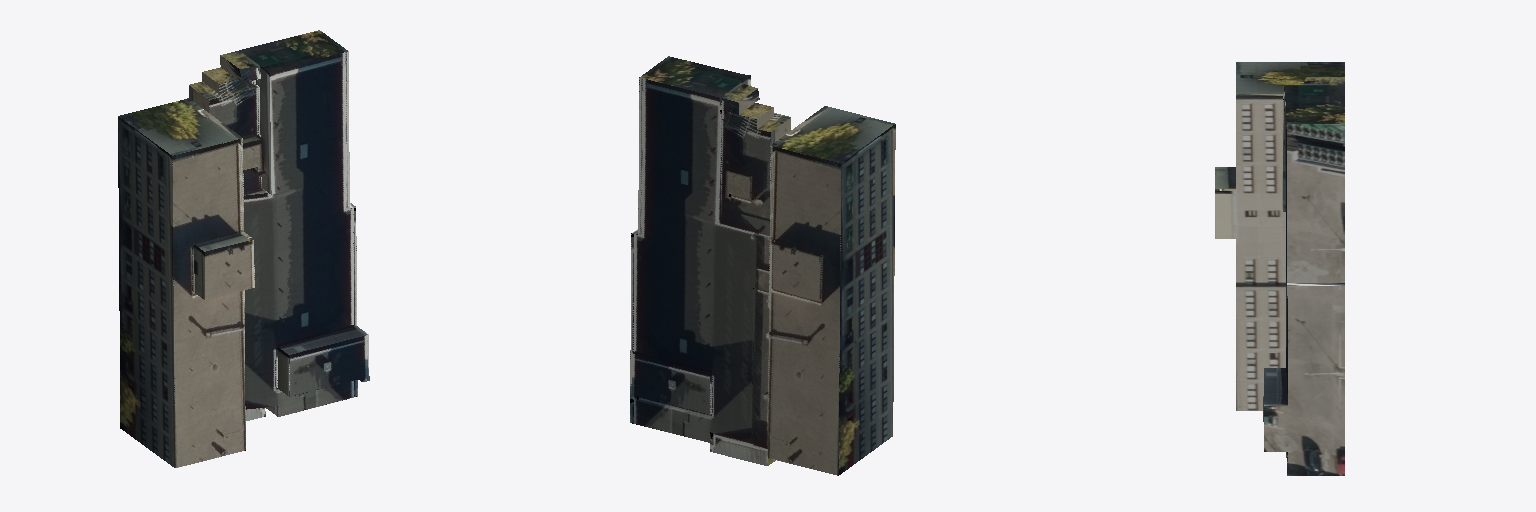
The picture shows the model from 3 angles: view 1: azimuth 30°, elevation 25°; view 2: azimuth 150°, elevation 25°; view 3: azimuth 270°, elevation 25°; orthographic projection.
Visible parts, largest first — view 1: talo_Build[number redacted]; view 2: talo_Build[number redacted]; view 3: talo_Build[number redacted].
Boxes of the visible parts, box(x1,y1,x2,y2) form: talo_Build[number redacted]: box(118, 30, 369, 467); talo_Build[number redacted]: box(630, 56, 895, 475); talo_Build[number redacted]: box(1215, 62, 1344, 475).
Size of the model in its own units: 3.44 by 5.57 by 1.83.
Materials: 75 (58 with a texture image).